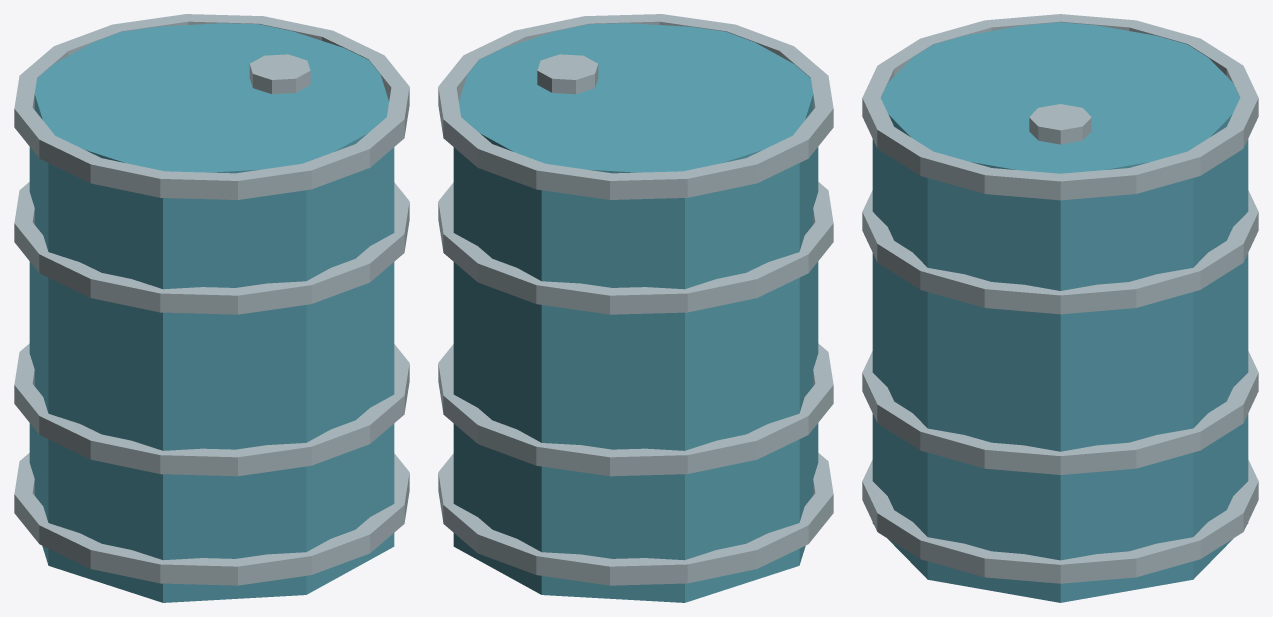
The model's file is ribbed-steel-drum.glb.
The picture shows the model from 3 angles, left to right: view 1: azimuth 30°, elevation 25°; view 2: azimuth 150°, elevation 25°; view 3: azimuth 270°, elevation 25°; orthographic projection.
Visible parts, largest first — view 1: blue, steel; view 2: blue, steel; view 3: blue, steel.
Boxes of the visible parts, bbox=[...] form: blue: bbox=[29, 23, 394, 602]; steel: bbox=[14, 14, 409, 585]; blue: bbox=[453, 23, 818, 602]; steel: bbox=[438, 14, 833, 585]; blue: bbox=[872, 22, 1248, 602]; steel: bbox=[862, 14, 1258, 583].
Bounding box in the file's own units: 0.76 × 0.93 × 0.76.
